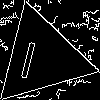I: (16, 32, 42, 80)
